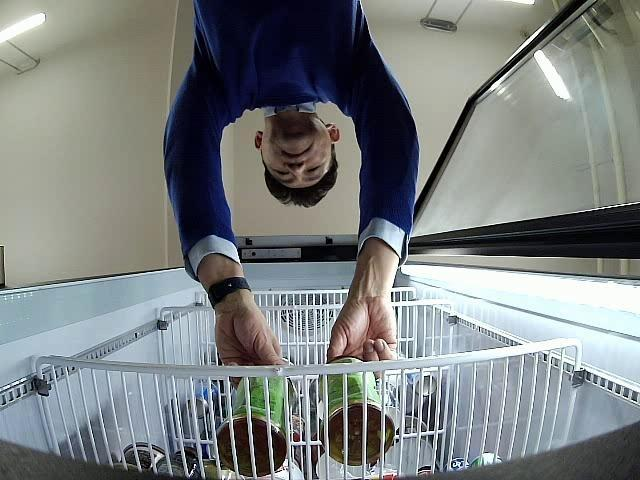19_17cha: (218, 366, 292, 476), (324, 356, 396, 464)
